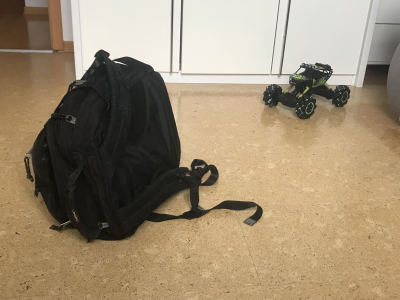remote control car: (259, 60, 353, 120)
